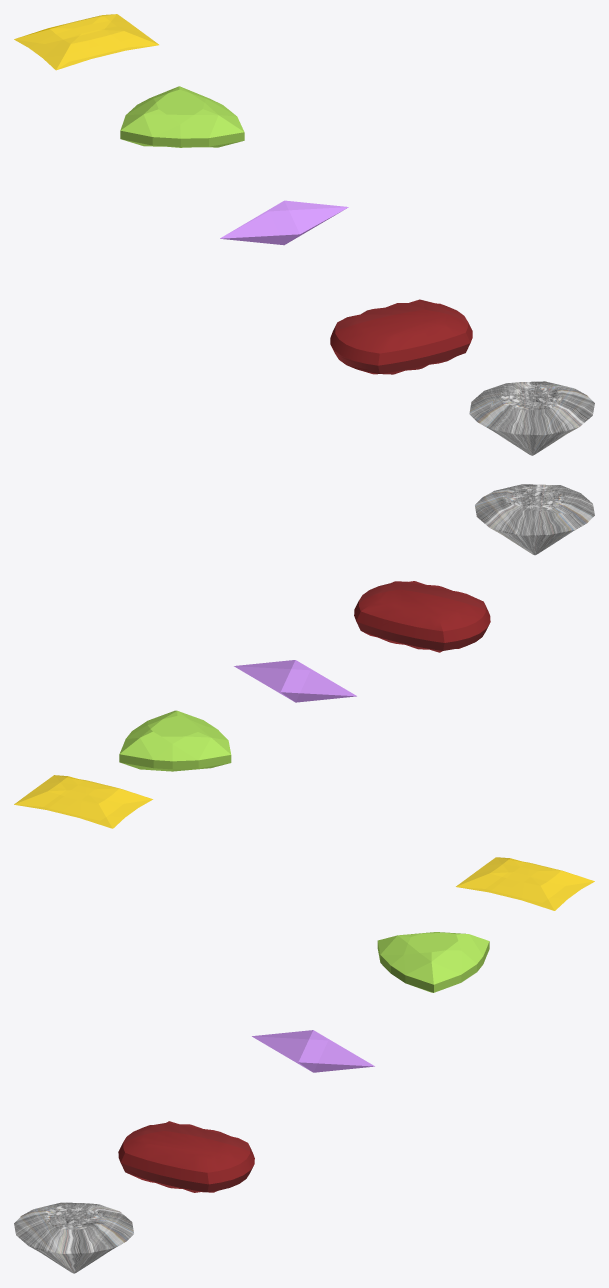
File: houseki.fbx
3 views of the same model, one above another, from view 1: azimuth 30°, elevation 25°; view 2: azimuth 150°, elevation 25°; view 3: azimuth 330°, elevation 25° (orthographic). The views are drawn at different scales.
Parts seen in each view (by area): view 1: 平面.001, 平面, 平面.003, 立方体, 平面.002; view 2: 平面.001, 平面, 平面.003, 立方体, 平面.002; view 3: 平面.001, 平面, 平面.003, 立方体, 平面.002.
Part boxes in pixels (x1,y1,x2,y2): 平面.001: [330, 299, 472, 374]; 平面: [469, 381, 594, 455]; 平面.003: [120, 86, 244, 147]; 立方体: [14, 14, 158, 70]; 平面.002: [220, 200, 348, 245]; 平面.001: [354, 581, 490, 652]; 平面: [475, 484, 594, 555]; 平面.003: [119, 710, 231, 771]; 立方体: [14, 775, 152, 828]; 平面.002: [234, 660, 356, 702]; 平面.001: [118, 1121, 254, 1192]; 平面: [14, 1202, 133, 1273]; 平面.003: [377, 932, 489, 992]; 立方体: [456, 857, 594, 910]; 平面.002: [252, 1030, 374, 1072].
Bounding box in the file's own units: 178 × 110 × 1162.
